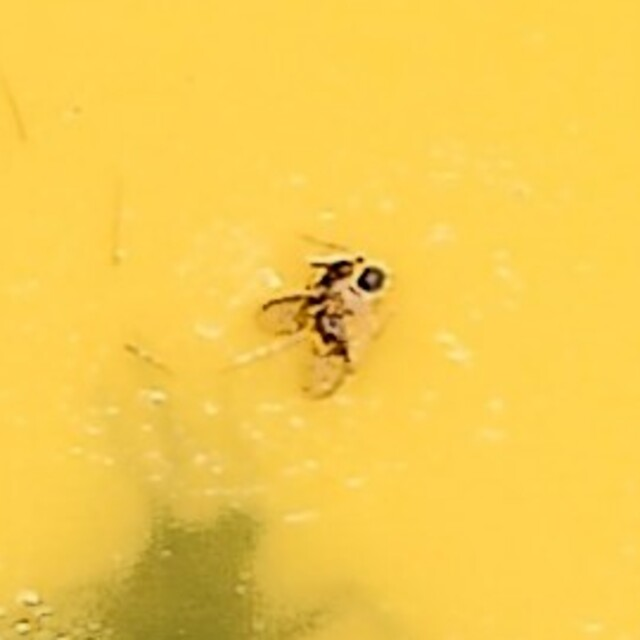Brachycera: (237, 242, 403, 398)
